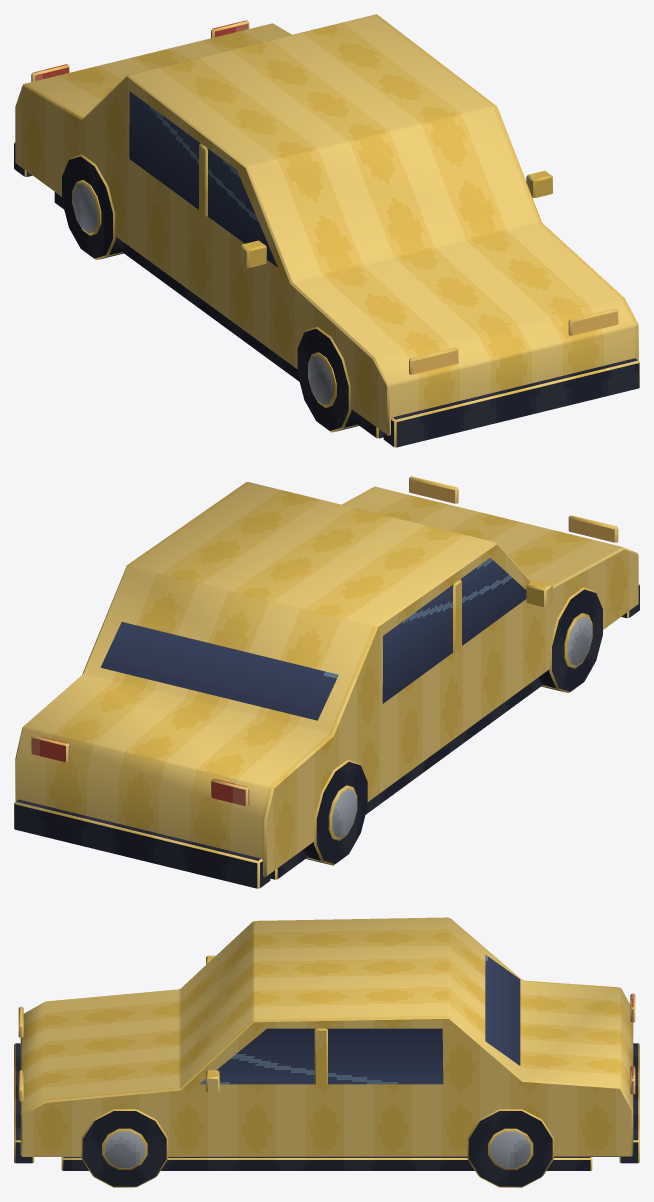
File: car_4.glb
The picture shows the model from 3 angles, top to bottom: view 1: azimuth 30°, elevation 25°; view 2: azimuth 150°, elevation 25°; view 3: azimuth 270°, elevation 25°; orthographic projection. The views are drawn at different scales.
Parts seen in each view (by area): view 1: car_5; view 2: car_5; view 3: car_5.
Boxes of the visible parts, x1=… form: car_5: x1=14, y1=14, x2=639, y2=447; car_5: x1=14, y1=476, x2=639, y2=888; car_5: x1=14, y1=917, x2=639, y2=1187.
Size of the model in its own units: 2.13 by 1.38 by 4.6.
Materials: 6 (6 with a texture image).
